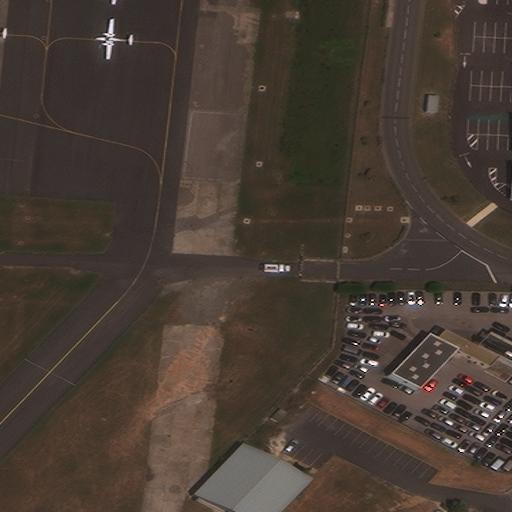Small Civil Transport: (95, 17, 134, 60)
